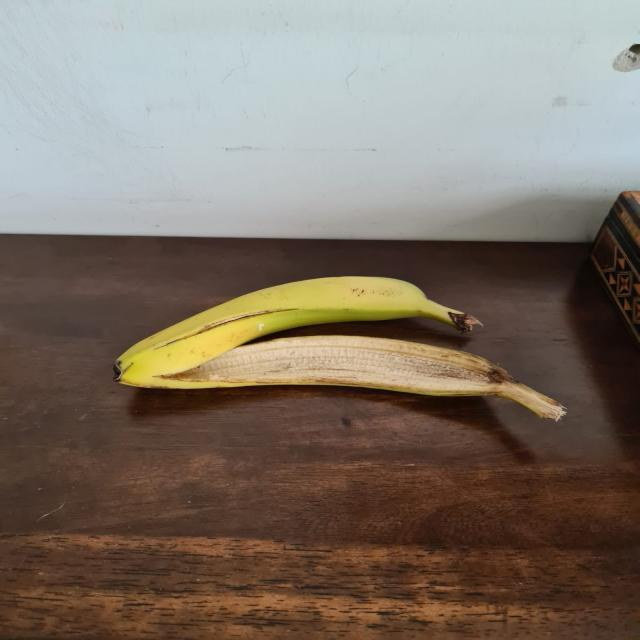banana-peel: (112, 273, 483, 388)
